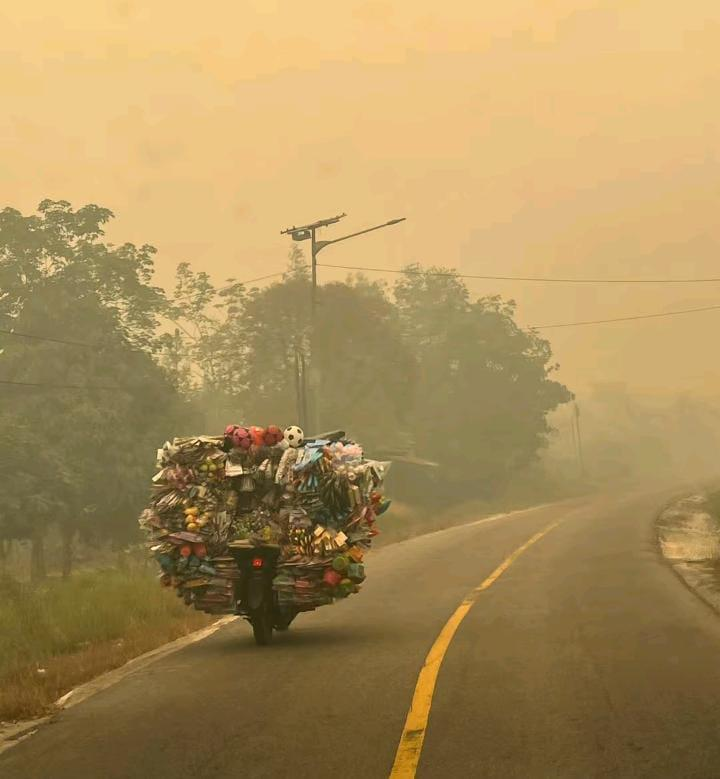Deteksi-Objek-Citra-Berasap: (0, 0, 720, 560)
Kendaraan: (140, 425, 392, 647)
Vegetasi: (0, 196, 231, 594), (196, 263, 580, 500)
